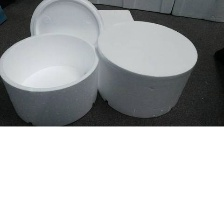foam_box: (97, 18, 201, 121), (0, 31, 99, 126), (25, 0, 107, 52), (93, 6, 135, 29)
